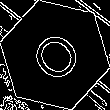O_SE: (22, 22, 88, 88)
